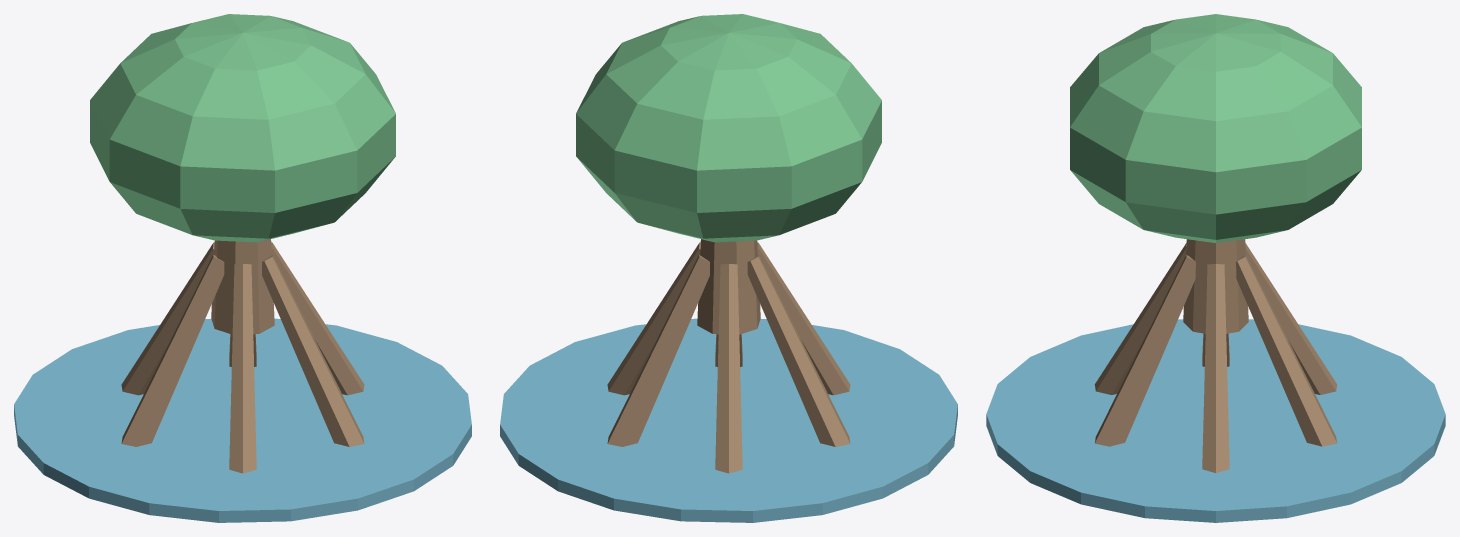
File: manglar.glb
3 renders of one model, left to right at view 1: azimuth 30°, elevation 25°; view 2: azimuth 150°, elevation 25°; view 3: azimuth 270°, elevation 25°, orthographic.
Parts seen in each view (by area): view 1: manglar; view 2: manglar; view 3: manglar.
Boxes of the visible parts, left/top/right/bottom form: manglar: left=14, top=14, right=471, bottom=522; manglar: left=500, top=14, right=957, bottom=522; manglar: left=986, top=14, right=1445, bottom=522.
Size of the model in its own units: 0.7 by 0.6812 by 0.7.
